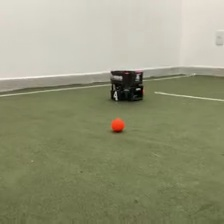ball: (110, 117, 125, 132)
robot: (110, 69, 144, 102)
